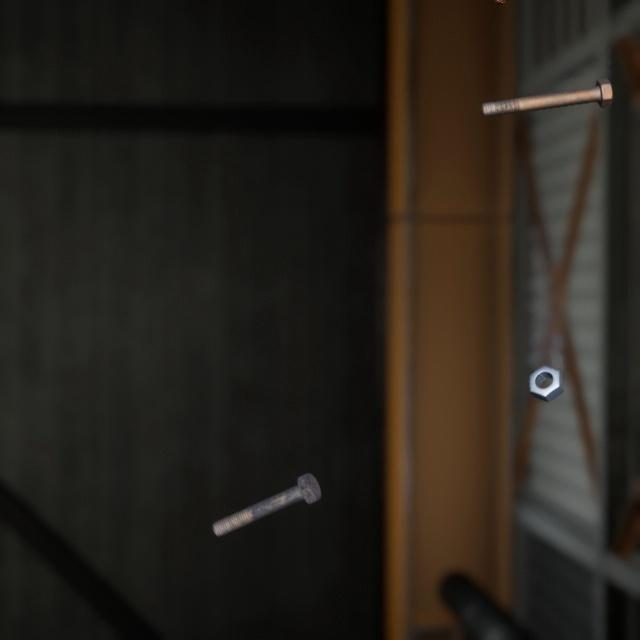bolt: (208, 445, 325, 519), (476, 62, 617, 109)
nut: (524, 341, 568, 387)
